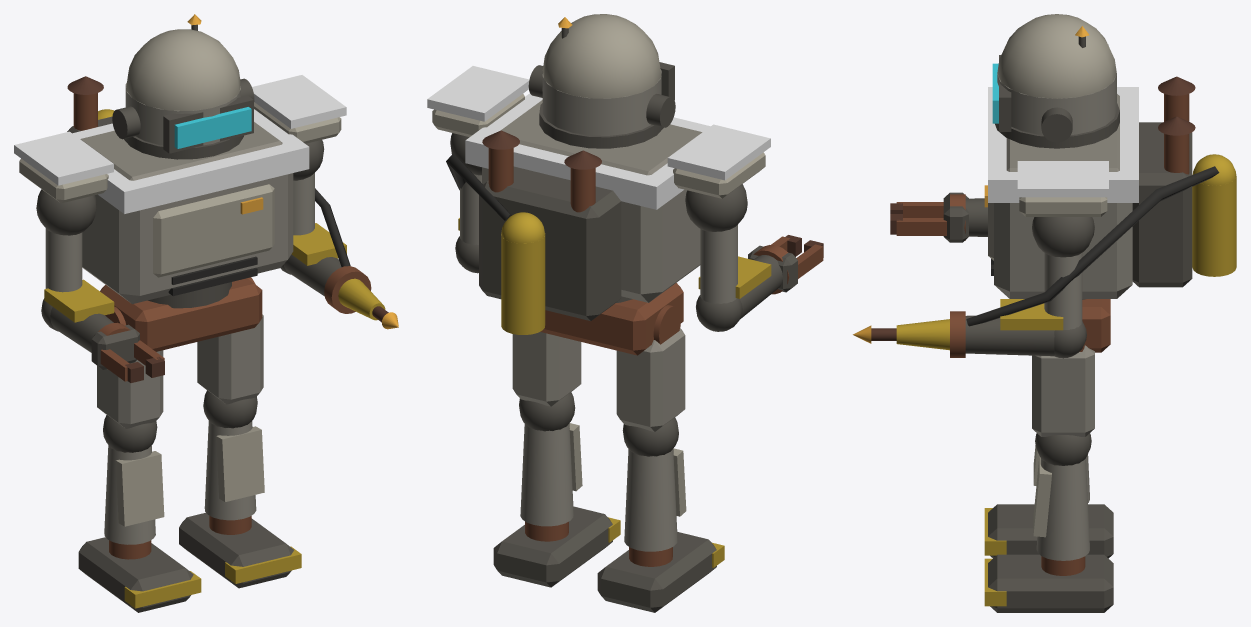
The picture shows the model from 3 angles, left to right: view 1: azimuth 30°, elevation 25°; view 2: azimuth 150°, elevation 25°; view 3: azimuth 270°, elevation 25°; orthographic projection. The views are drawn at different scales.
Visible parts, largest first — view 1: dweller_robot_builder; view 2: dweller_robot_builder; view 3: dweller_robot_builder.
Part boxes in pixels (x1=…): dweller_robot_builder: x1=14, y1=14, x2=398, y2=612; dweller_robot_builder: x1=427, y1=14, x2=823, y2=612; dweller_robot_builder: x1=853, y1=14, x2=1236, y2=612.
Bounding box in the file's own units: 1.09 × 1.97 × 1.22.
